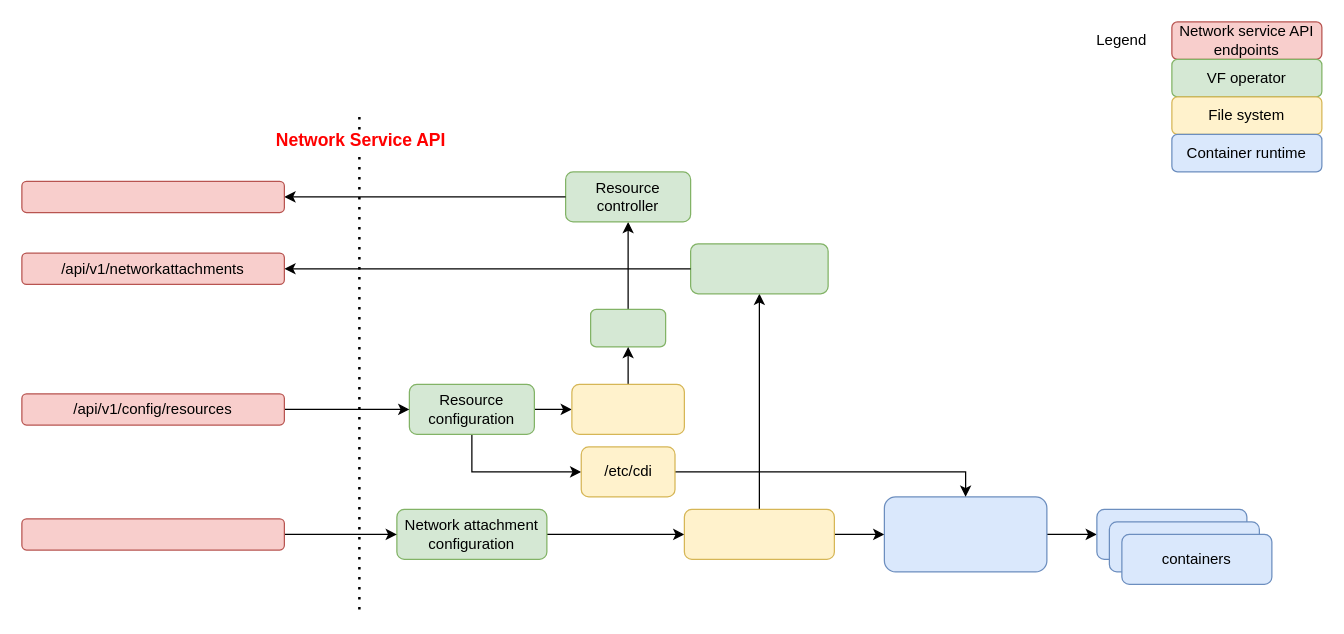
This 1344x634 diagram has some shape labels left out. Each missing label, with the centre of its shape:
/api/v1/config/networkattachments: the point at 152,534
/api/v1/resources: the point at 152,196
/etc/cni/net.d/: the point at 758,533
/sys/bus/pci: the point at 627,408
ghw: the point at 627,327
Network attachment controller: the point at 758,268
podman: the point at 965,534
